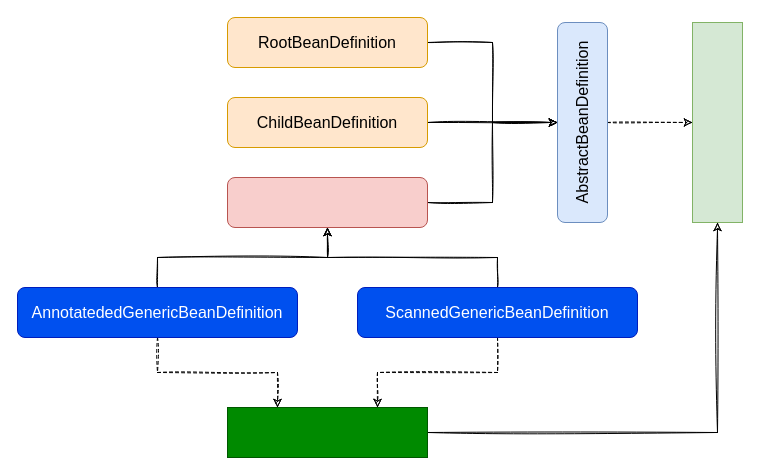
Image size: 760x475. Some labels were removed from this diagram. Each missing label, with the centre of its shape:
"AnnotatedBeanDefinition" belongs at pixel 327 432.
"BeanDefinition" belongs at pixel 717 122.
"GenericBeanDefinition" belongs at pixel 327 202.
